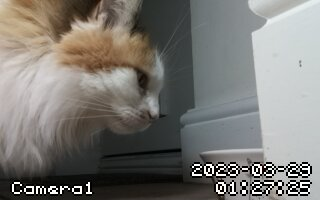clara: (1, 3, 163, 171)
